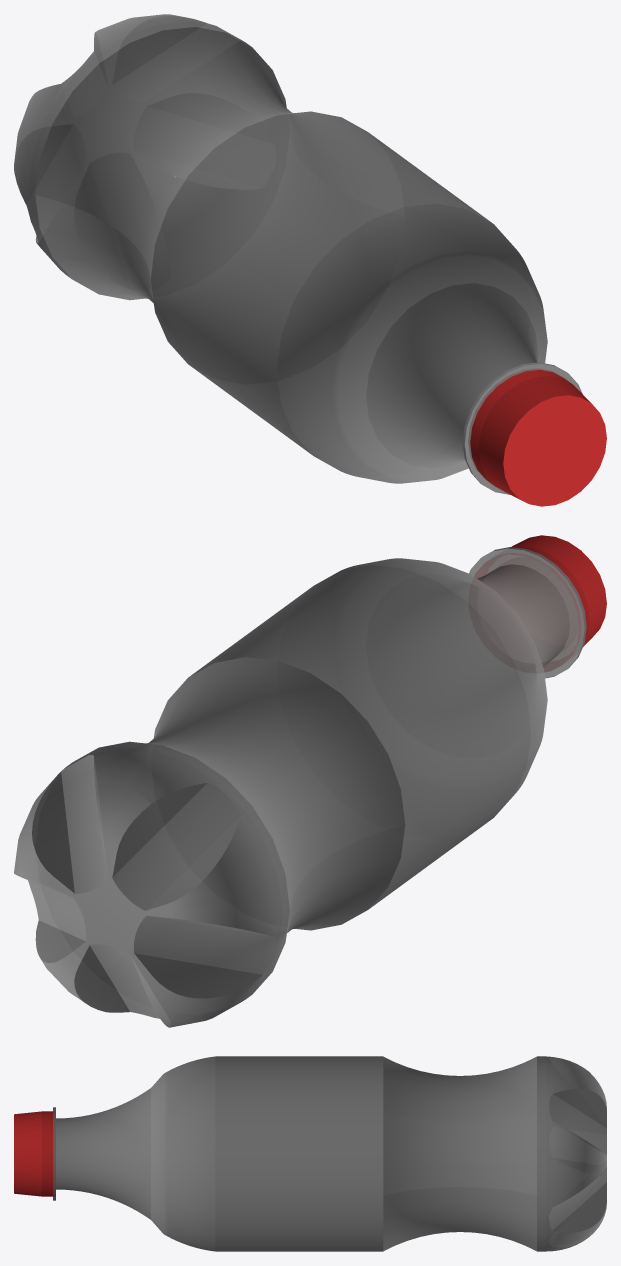
The model's file is model_align.obj.
3 renders of one model, top to bottom at view 1: azimuth 30°, elevation 25°; view 2: azimuth 150°, elevation 25°; view 3: azimuth 270°, elevation 25°, orthographic. The views are drawn at different scales.
Visible parts, largest first — view 1: mesh4_mesh4-geometry, mesh1_mesh1-geometry; view 2: mesh4_mesh4-geometry, mesh1_mesh1-geometry; view 3: mesh4_mesh4-geometry, mesh1_mesh1-geometry.
Part boxes in pixels (<box>): mesh4_mesh4-geometry: <box>14,14,582,494</box>; mesh1_mesh1-geometry: <box>468,369,606,506</box>; mesh4_mesh4-geometry: <box>14,547,586,1027</box>; mesh1_mesh1-geometry: <box>475,535,606,671</box>; mesh4_mesh4-geometry: <box>53,1056,606,1251</box>; mesh1_mesh1-geometry: <box>14,1111,55,1196</box>.
Size of the model in its own units: 0.0703 by 0.0703 by 0.2128.
